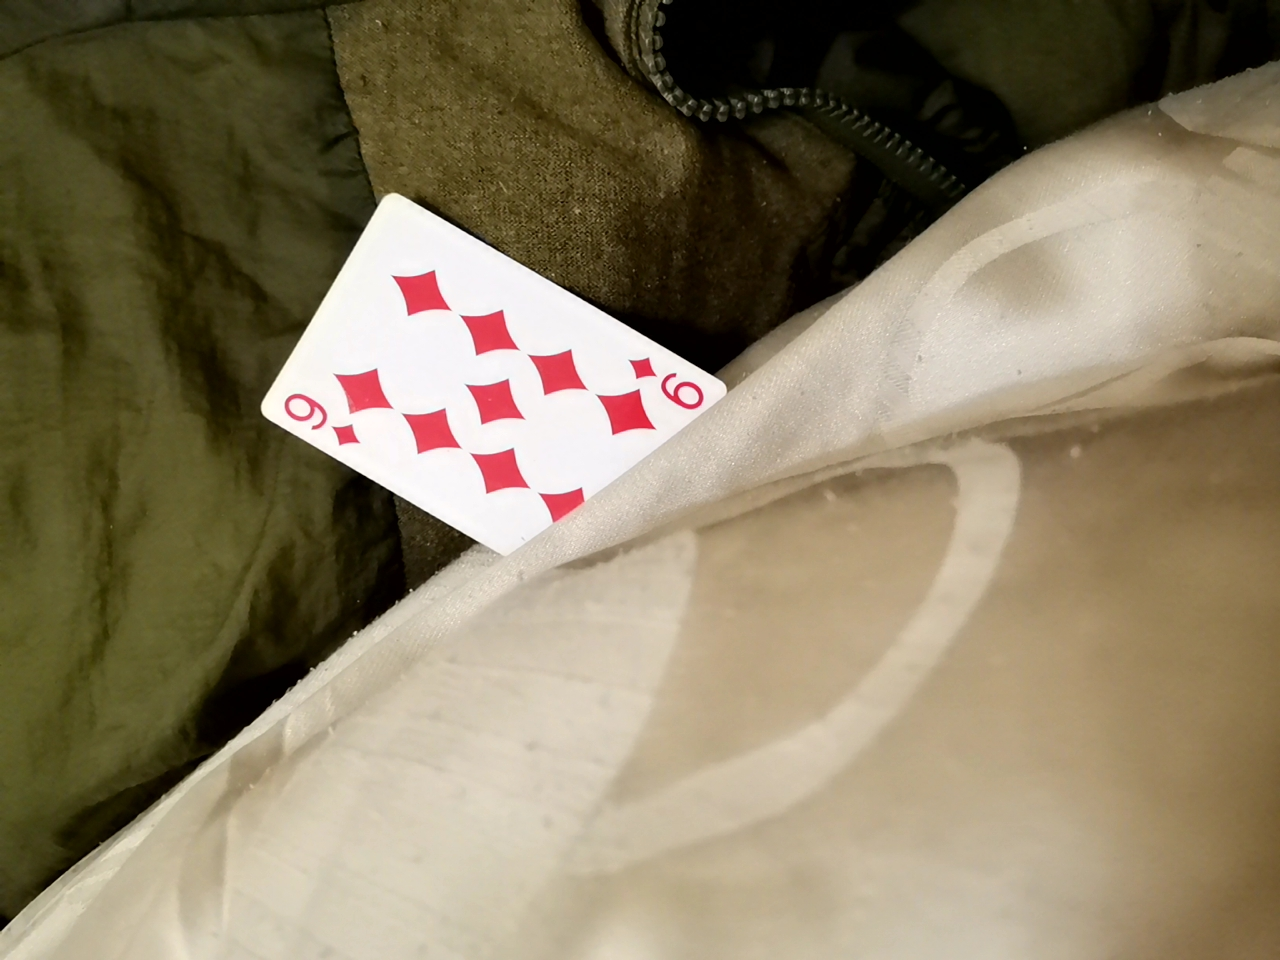fk 9: (219, 183, 744, 565)
